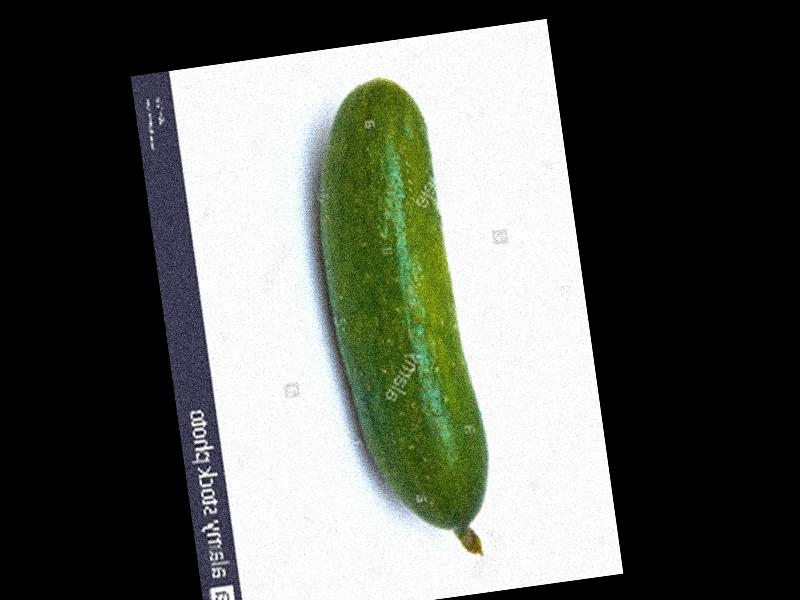Cucumber: (299, 68, 502, 571)
